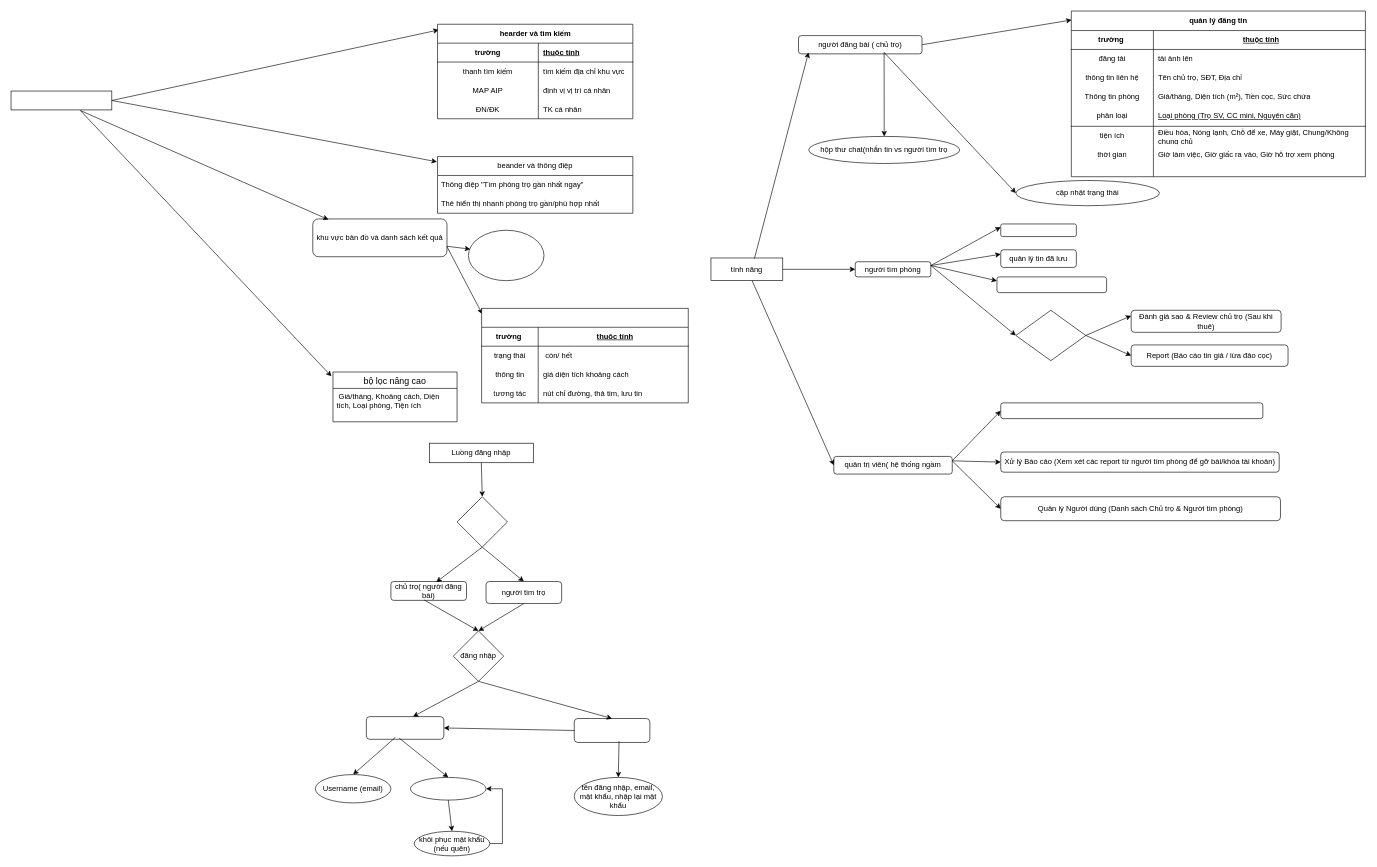
The diagram is 1377 pixels wide and 867 high, and some of its shapes have lost their labels. Each missing label, with the box of its shape:
bản đồ tương tác: (468, 230, 544, 281)
danh sách thẻ phòng: (481, 308, 688, 403)
hộp thư chat( nhắn vs chủ phòng): (996, 276, 1107, 293)
Kiểm duyệt nội dung (Duyệt bài đăng của Chủ trọ trước khi hiện lên Bản đồ): (1000, 402, 1263, 419)
Password: (410, 777, 486, 800)
trang chủ và giao diện chính: (10, 90, 112, 110)
tìm kiếm và bộ lọc: (1000, 223, 1076, 237)
vai trò người dùng: (456, 496, 507, 547)
đánh giá báo cáo: (1015, 310, 1086, 361)
đăng ký: (574, 718, 650, 742)
đăng nhập (đã có tài khoản): (366, 716, 444, 739)
